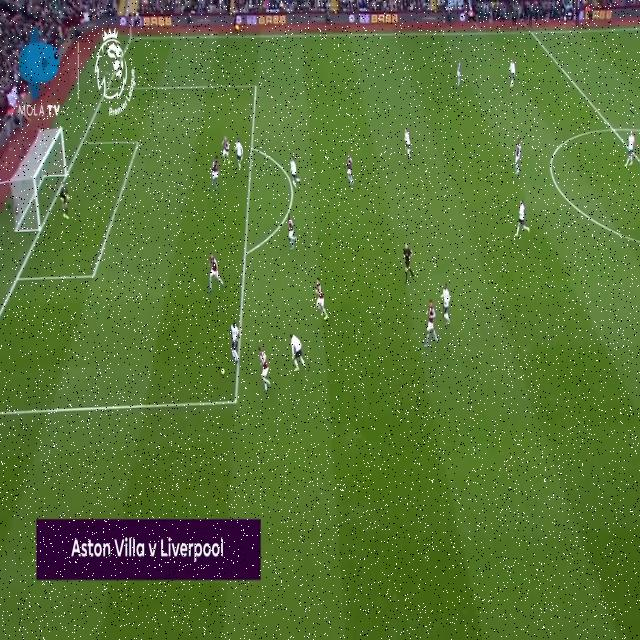Ball: (221, 367, 225, 376)
GoalKeeper: (59, 179, 71, 221)
Referee: (404, 240, 414, 286), (231, 14, 240, 36)
TEAM 1: (313, 274, 329, 323), (425, 299, 440, 346), (208, 252, 224, 296), (258, 346, 272, 393), (286, 211, 298, 251), (343, 151, 354, 184), (514, 138, 523, 176), (211, 154, 219, 192), (222, 134, 231, 164), (457, 58, 462, 86)
TEAM 2: (289, 332, 306, 372), (514, 200, 530, 240), (439, 282, 453, 327), (226, 320, 240, 364), (623, 132, 635, 168), (234, 137, 245, 170), (290, 154, 300, 190), (403, 126, 413, 160), (506, 59, 516, 90)
